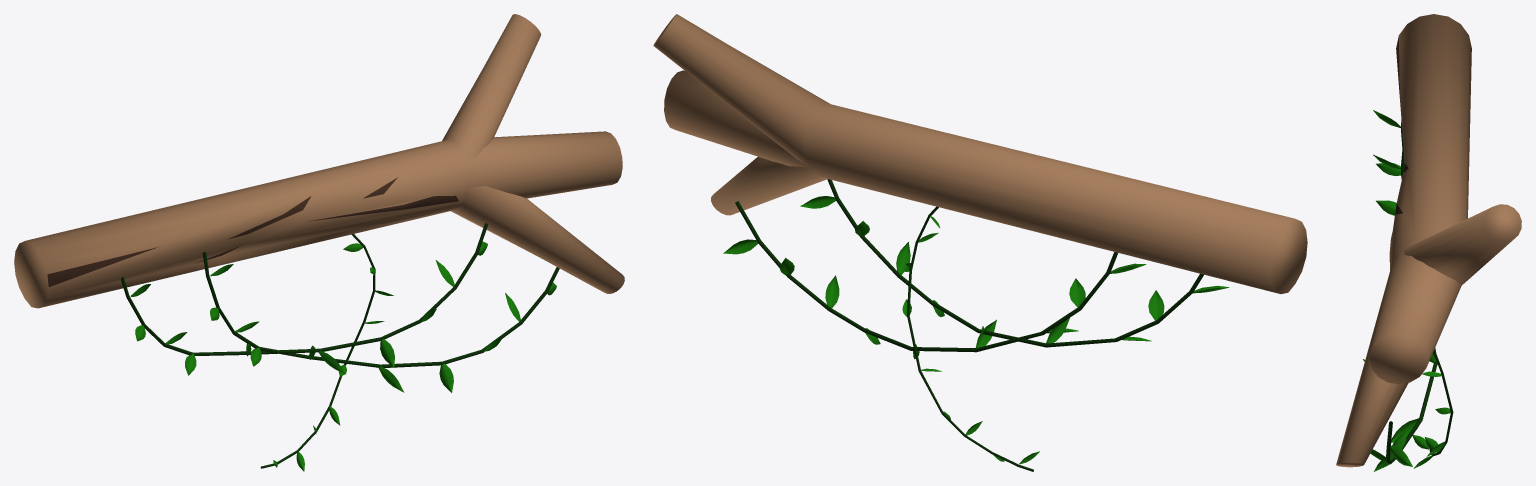
Rendered from Swinging Vine.fbx.
The picture shows the model from 3 angles, left to right: view 1: azimuth 30°, elevation 25°; view 2: azimuth 150°, elevation 25°; view 3: azimuth 270°, elevation 25°; orthographic projection. The views are drawn at different scales.
Parts seen in each view (by area): view 1: Cylinder; view 2: Cylinder; view 3: Cylinder.
Boxes of the visible parts, left/top/right/bottom form: Cylinder: left=14, top=14, right=624, bottom=471; Cylinder: left=653, top=14, right=1307, bottom=471; Cylinder: left=1336, top=14, right=1521, bottom=471.
Bounding box in the file's own units: 10.54 × 6.54 × 2.74.
1 material, 1 textured.
